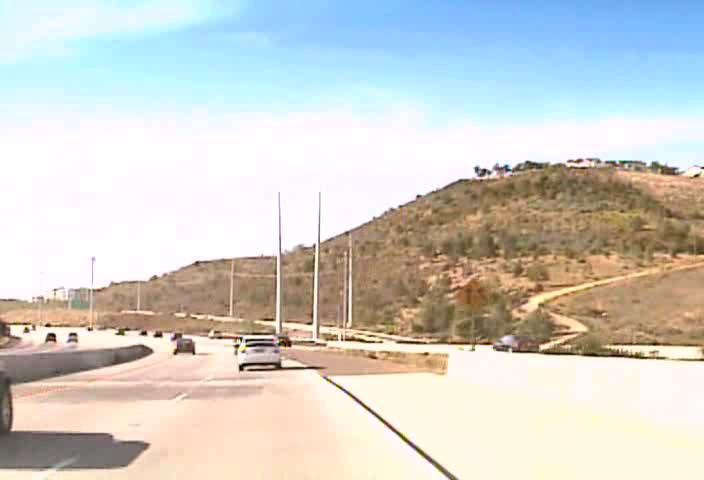addedLane: (452, 276, 495, 315)
